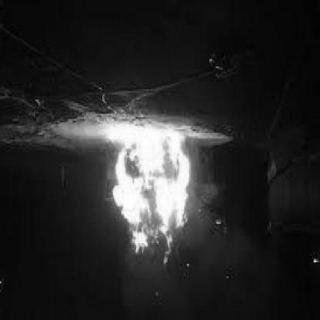Fire: (109, 126, 198, 266)
